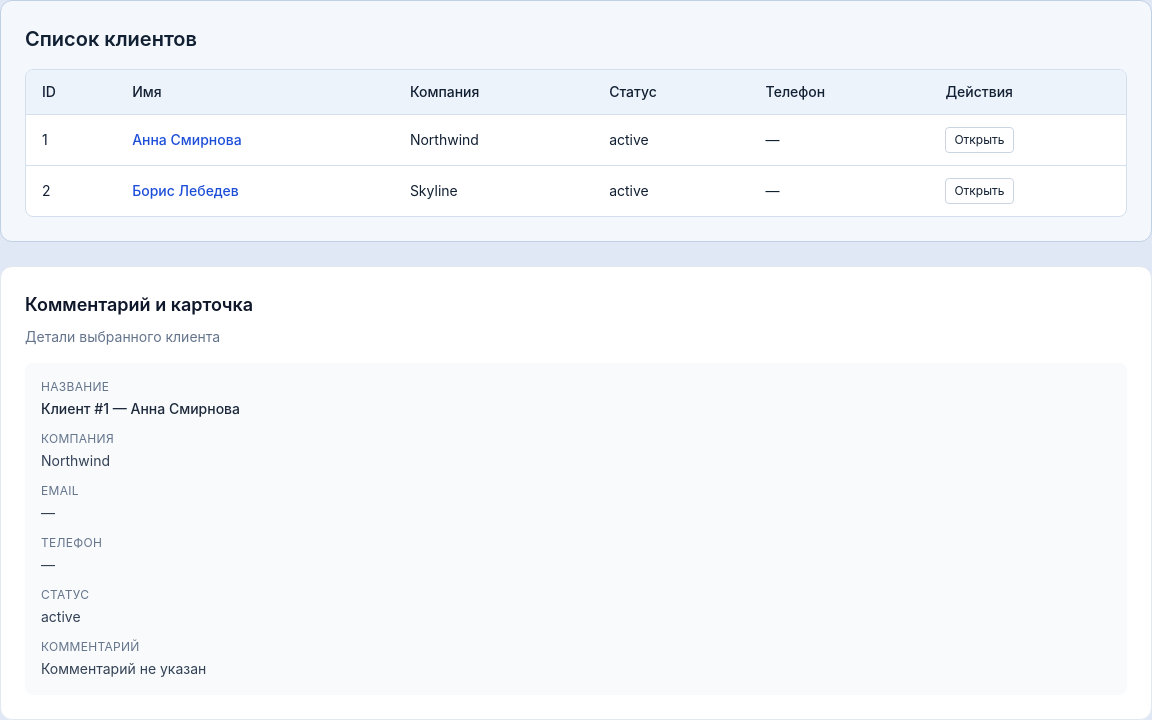
Test case: ClientsPage › scrolls to client card after user selection
Click the button "Борис Лебедев": click(185, 191) top-left (132, 181), bottom-right (239, 201)
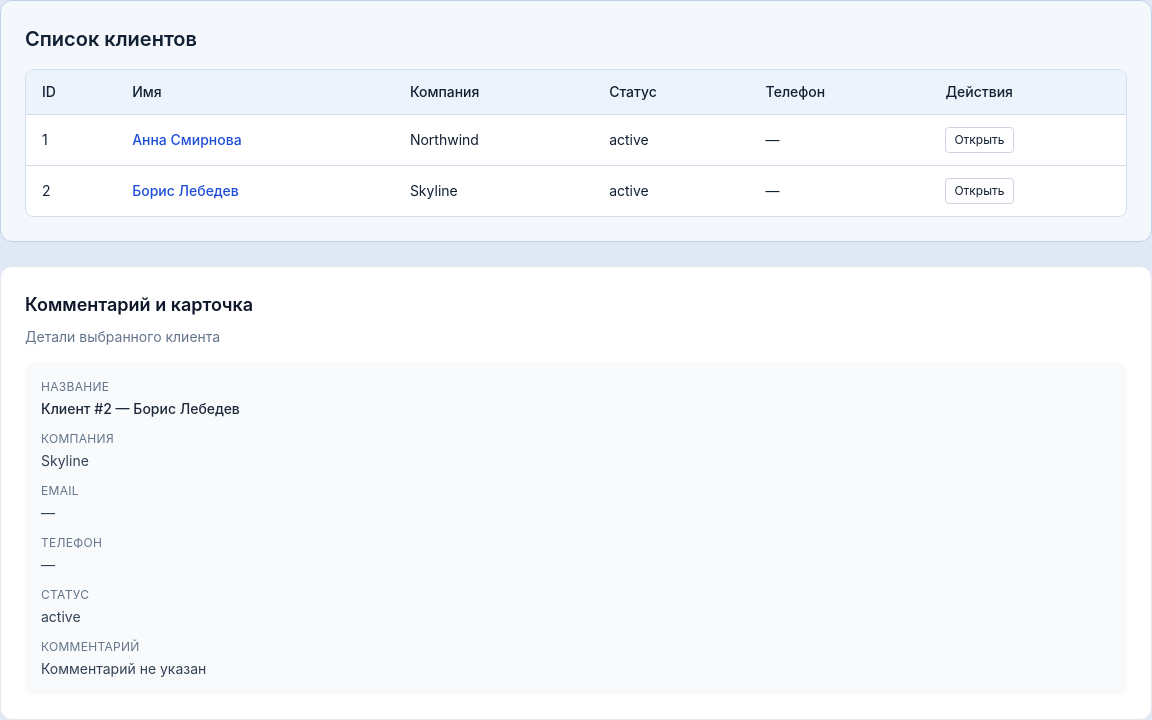
Expected: the text "Клиент #2 — Борис Лебедев" is shown, top-left (41, 400), bottom-right (240, 417)
